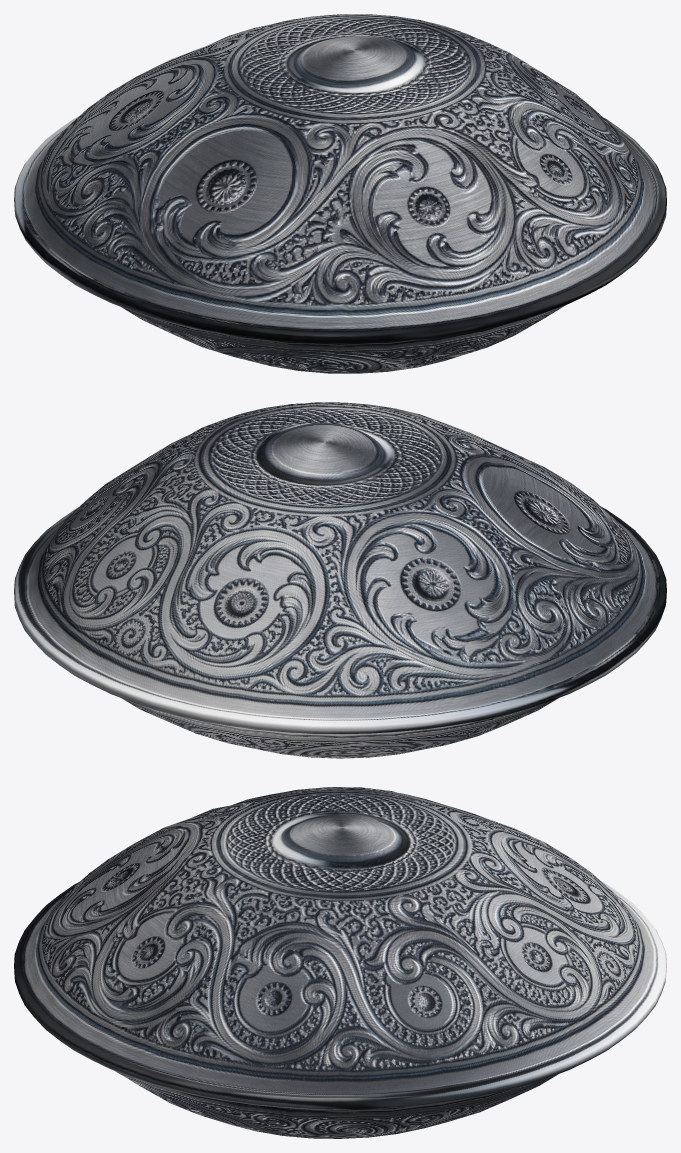
3 renders of one model, top to bottom at view 1: azimuth 30°, elevation 25°; view 2: azimuth 150°, elevation 25°; view 3: azimuth 270°, elevation 25°, orthographic.
Parts seen in each view (by area): view 1: g; view 2: g; view 3: g.
Boxes of the visible parts, <box> form: g: <box>14,14,666,373</box>; g: <box>14,402,666,758</box>; g: <box>14,787,666,1138</box>.
Size of the model in its own units: 2 by 0.9154 by 2.
Materials: 1 (1 with a texture image).
